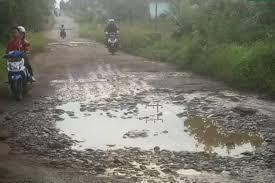Pothole: (41, 80, 267, 163), (53, 41, 76, 56)
